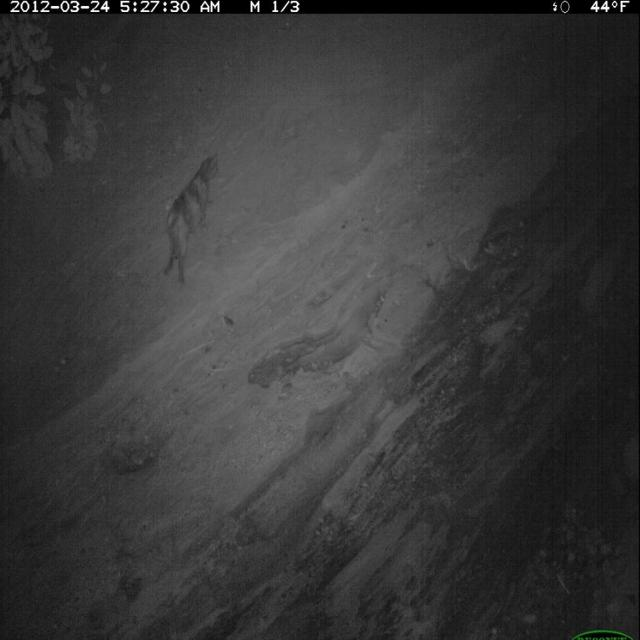cat: (162, 151, 225, 289)
